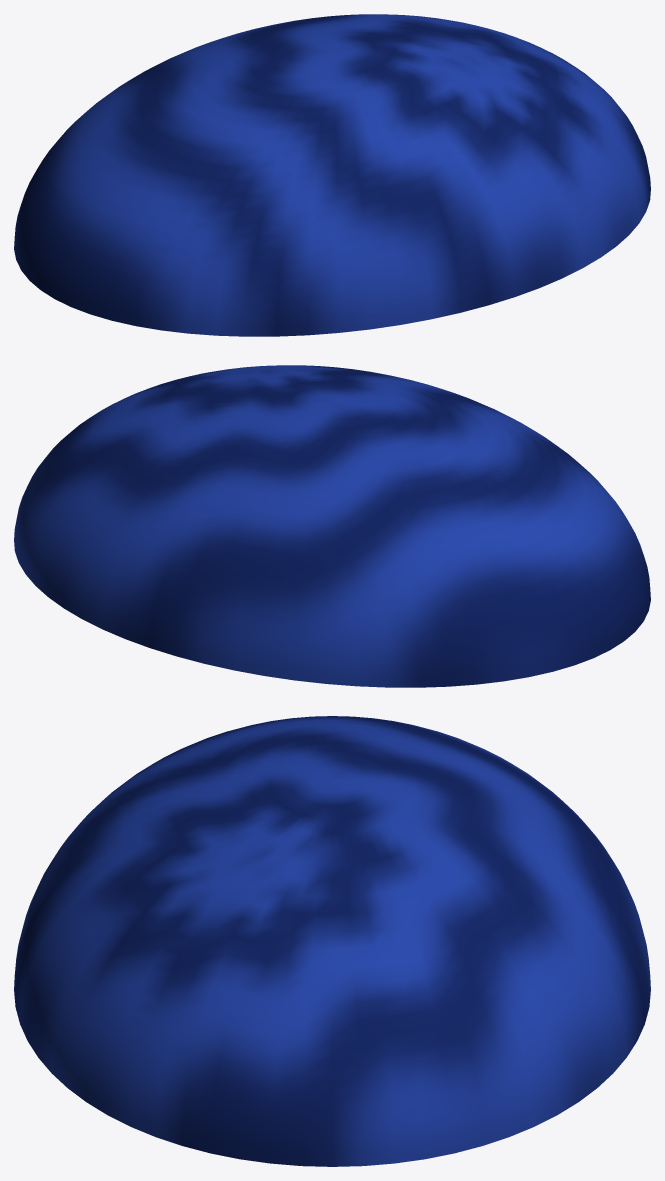
File: azurite.glb
3 renders of one model, top to bottom at view 1: azimuth 30°, elevation 25°; view 2: azimuth 150°, elevation 25°; view 3: azimuth 270°, elevation 25°, orthographic. The views are drawn at different scales.
Parts seen in each view (by area): view 1: azurite; view 2: azurite; view 3: azurite.
Part boxes in pixels (<box>): azurite: <box>14,14,650,336</box>; azurite: <box>14,365,650,687</box>; azurite: <box>14,716,650,1166</box>.
Size of the model in its own units: 0.25 by 0.0688 by 0.19.
